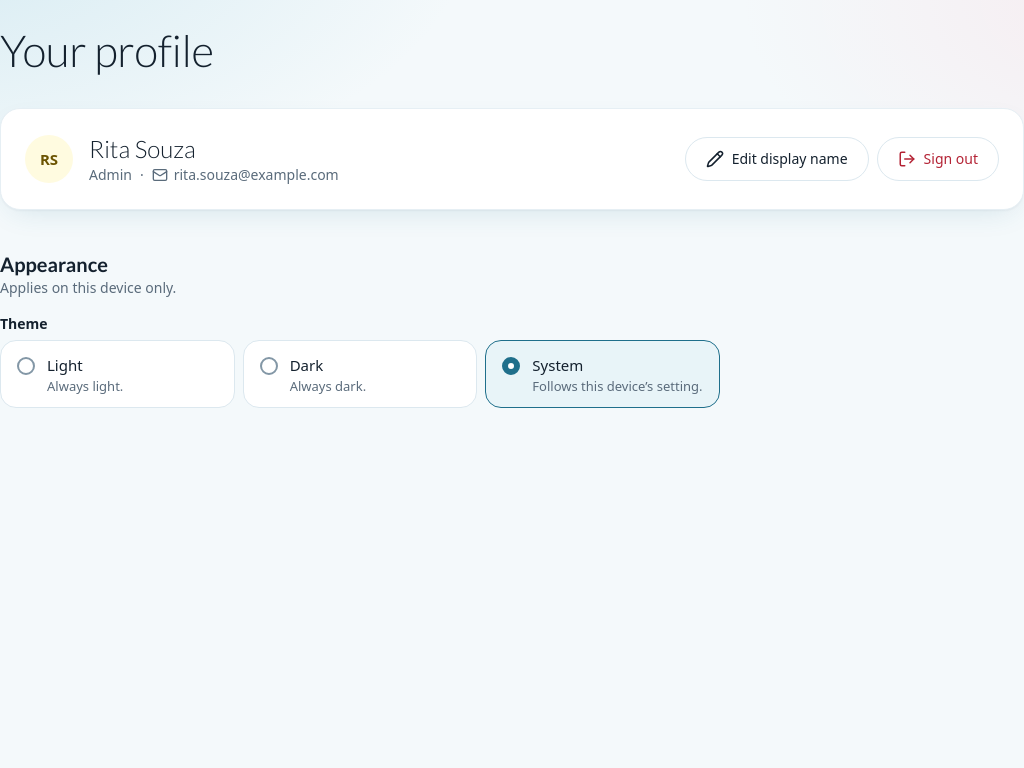
Test: display name › keeps the sheet open with an alert when saving fails
Step 1. Click the button "Edit display name" → (777, 159), box left=685, top=137, right=869, bottom=181
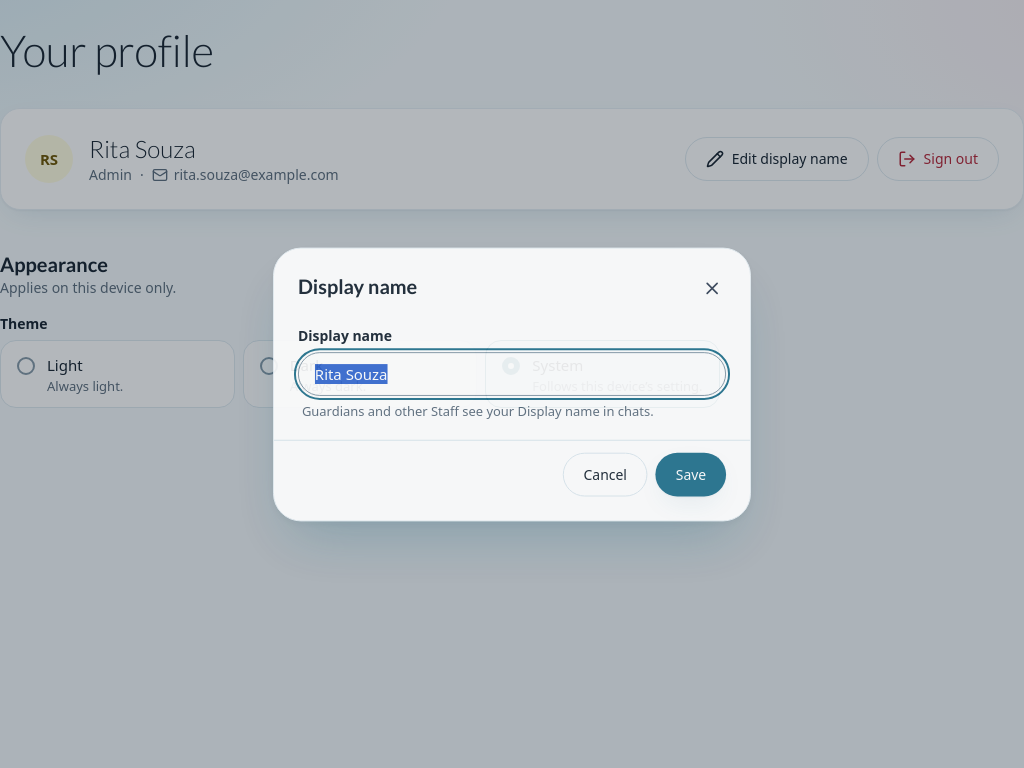
Step 2. Replace the text in the field labelled "Display name" with "Rita S." → (512, 374), box left=297, top=352, right=726, bottom=396
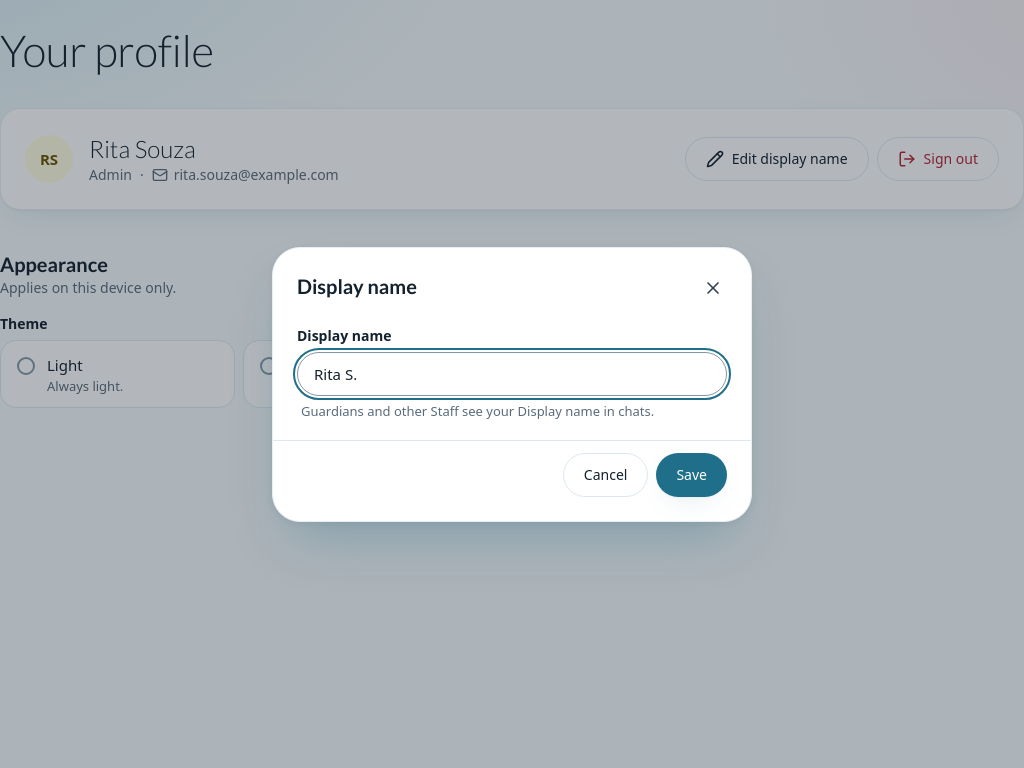
Step 3. Click the button "Save" → (692, 474), box left=656, top=452, right=727, bottom=496
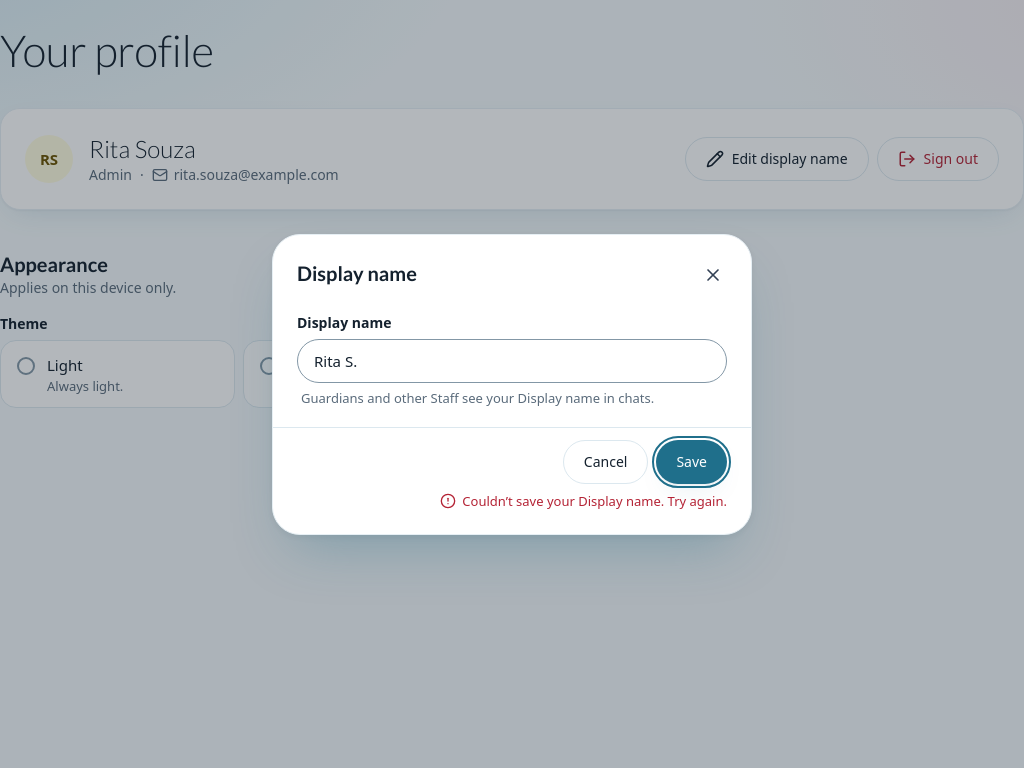
Now the dialog is shown, box left=272, top=234, right=752, bottom=534
Now the message reads "Couldn’t save your Display name. Try again.", box left=462, top=492, right=727, bottom=510
